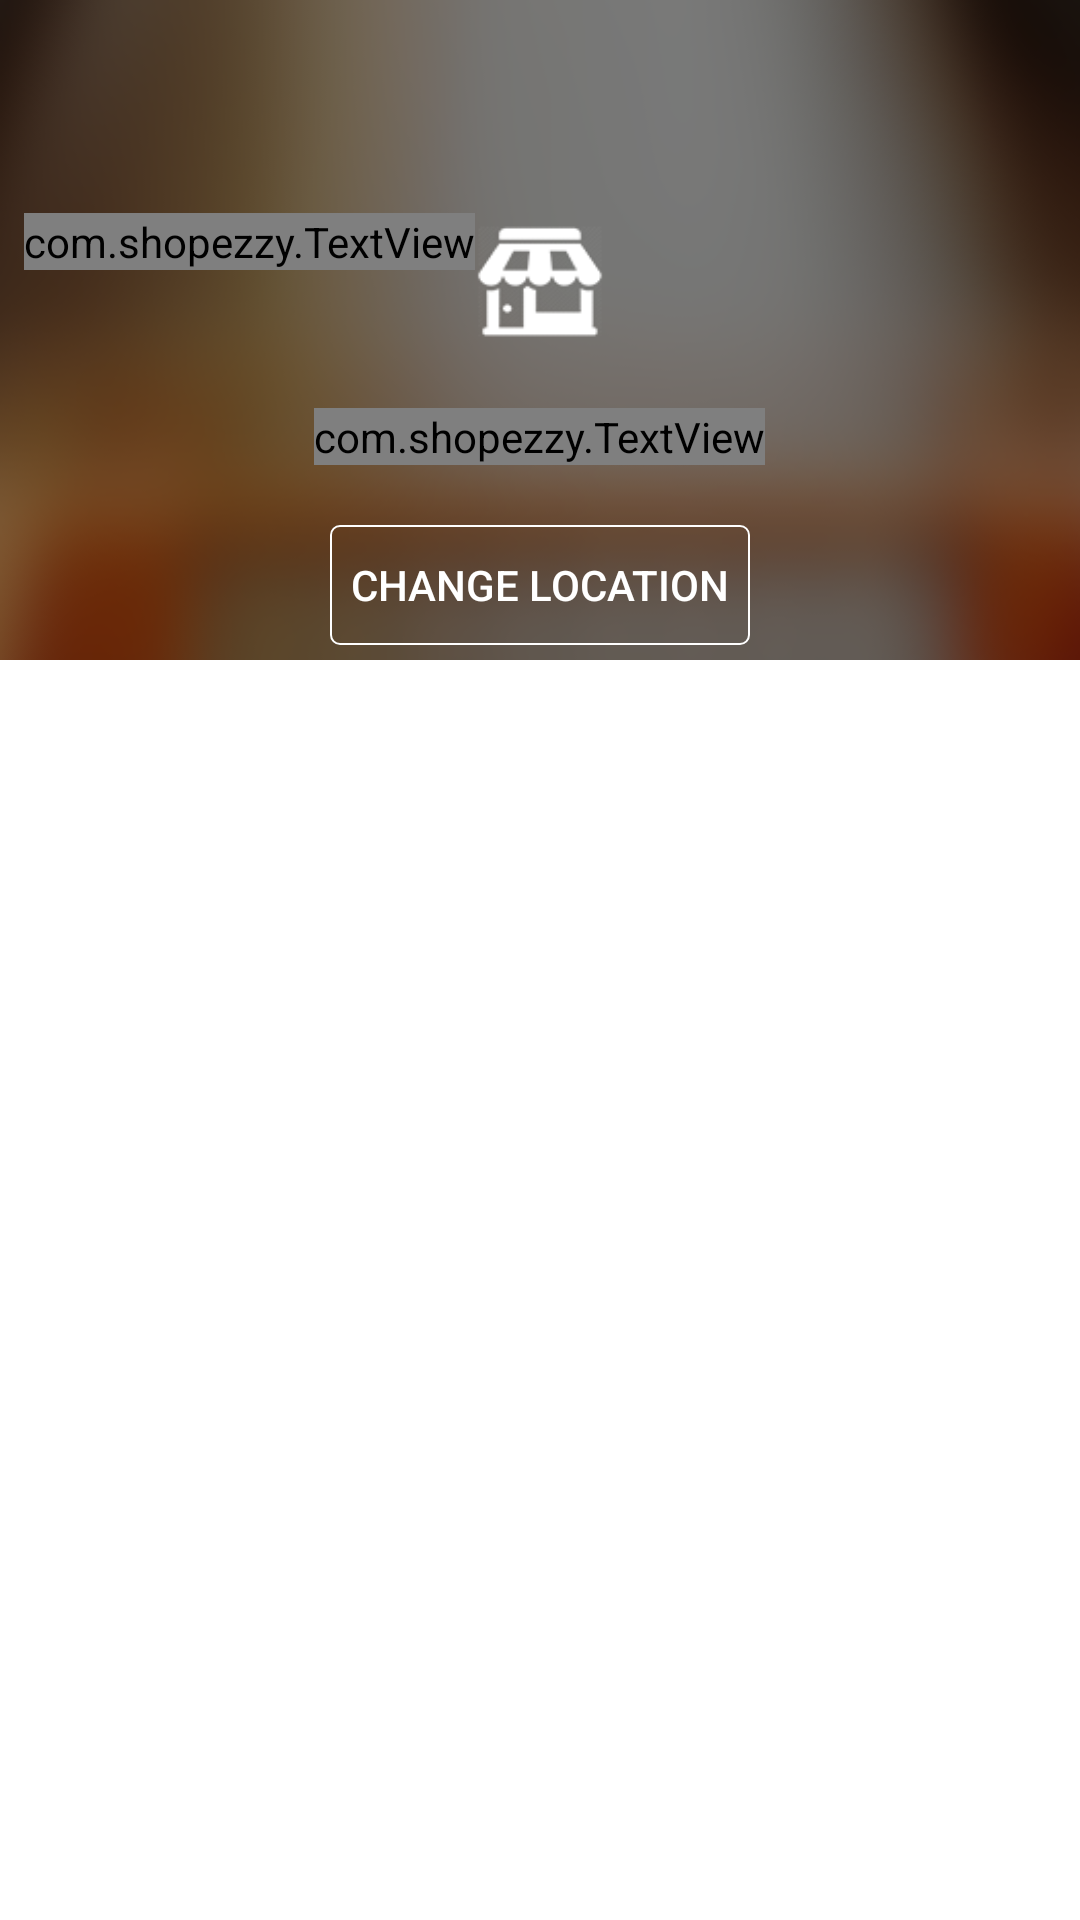

Point at icon controls on the screen. Image size 1080px x 1920px, points as point (x, y).
store: point (540, 282)
